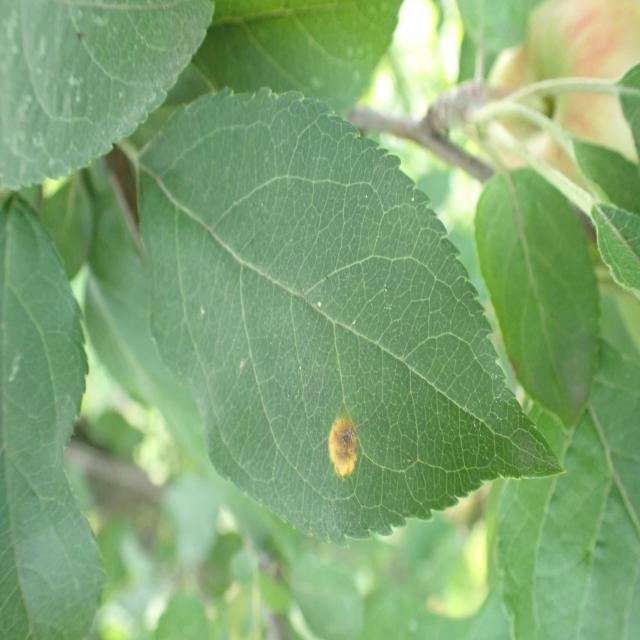Rust: (314, 395, 365, 489)
